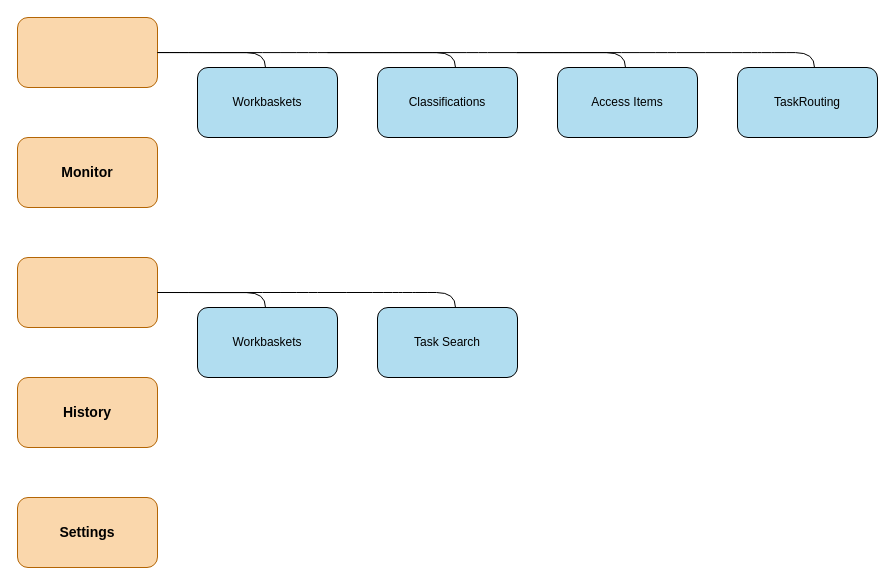
This 895x585 diagram has some shape labels left out. Here are the shapes that lost their labels. From the top down, the centre of each, then its label:
(x=87, y=52): Administration
(x=87, y=292): Workplace
